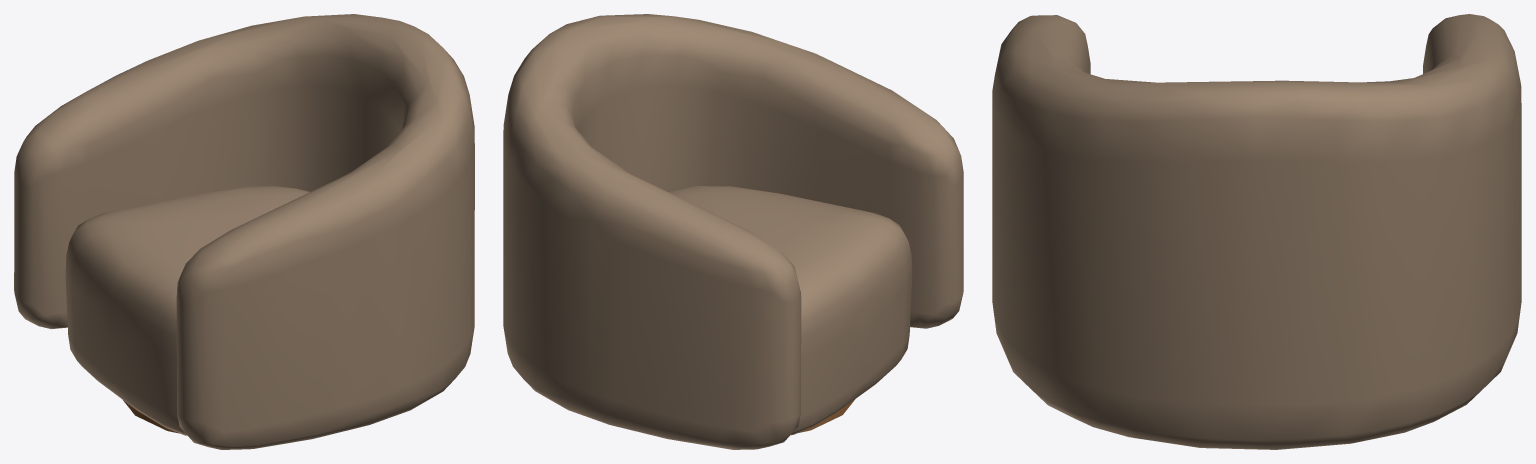
Rendered from armchair_04_light_brown.fbx.
The picture shows the model from 3 angles, left to right: view 1: azimuth 30°, elevation 25°; view 2: azimuth 150°, elevation 25°; view 3: azimuth 270°, elevation 25°; orthographic projection. The views are drawn at different scales.
Visible parts, largest first — view 1: armchair_04_light_brown; view 2: armchair_04_light_brown; view 3: armchair_04_light_brown.
Part boxes in pixels (<box>): armchair_04_light_brown: <box>14,14,474,449</box>; armchair_04_light_brown: <box>503,14,963,449</box>; armchair_04_light_brown: <box>992,14,1521,449</box>.
Size of the model in its own units: 115 by 99.69 by 122.
Materials: 2 (2 with a texture image).
